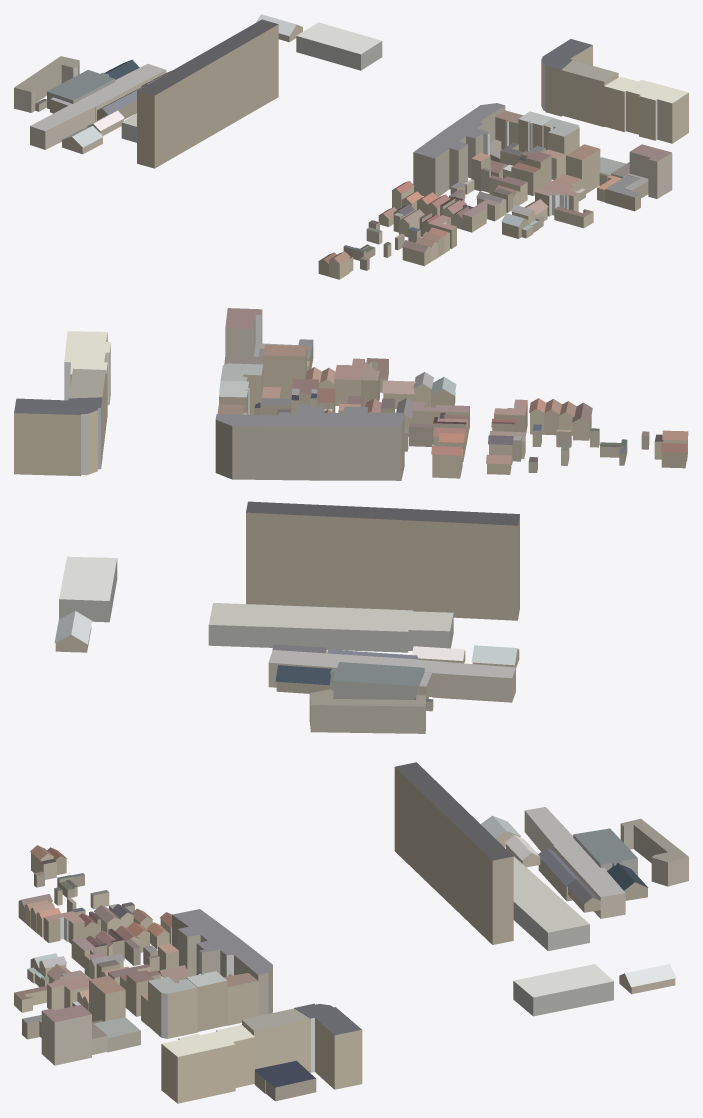
3 renders of one model, top to bottom at view 1: azimuth 30°, elevation 25°; view 2: azimuth 150°, elevation 25°; view 3: azimuth 270°, elevation 25°, orthographic. The views are drawn at different scales.
Parts seen in each view (by area): view 1: tuile; view 2: tuile; view 3: tuile.
Boxes of the visible parts, <box> form: tuile: <box>14,14,688,279</box>; tuile: <box>14,308,688,733</box>; tuile: <box>14,762,688,1103</box>.
Size of the model in its own units: 266 by 41.92 by 269.
